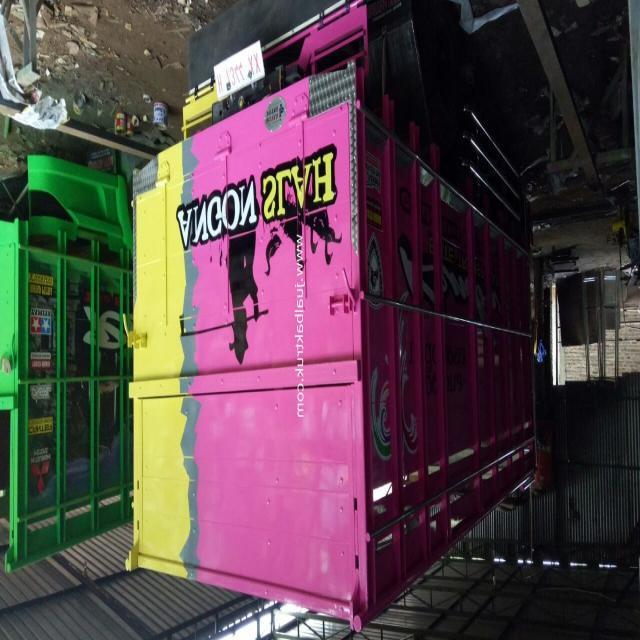truck: (123, 1, 540, 606)
